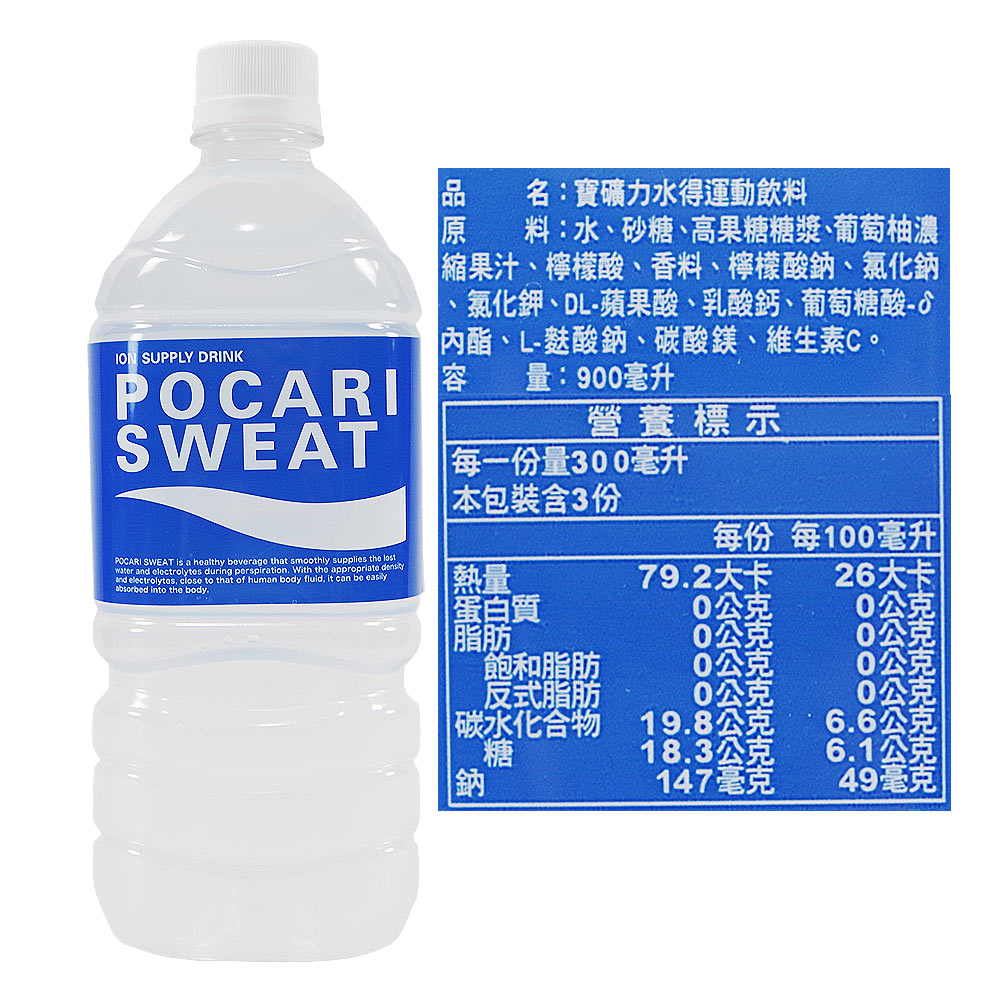POCARI SWEAT: (86, 37, 431, 970)
